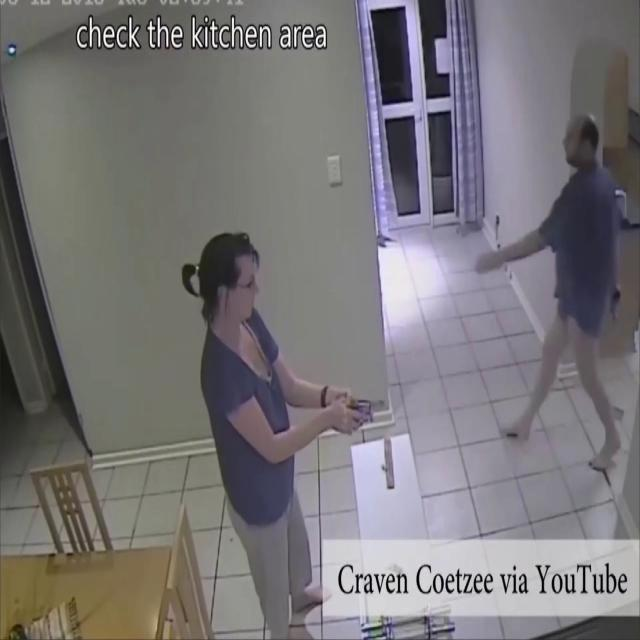weapon: (344, 395, 394, 424), (610, 286, 622, 323)
